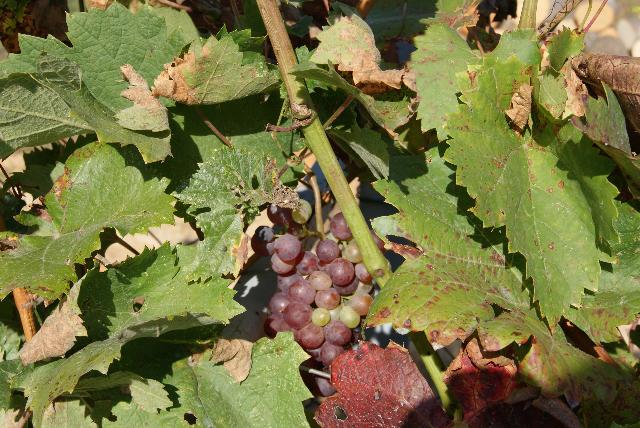grapes: (251, 205, 375, 368)
